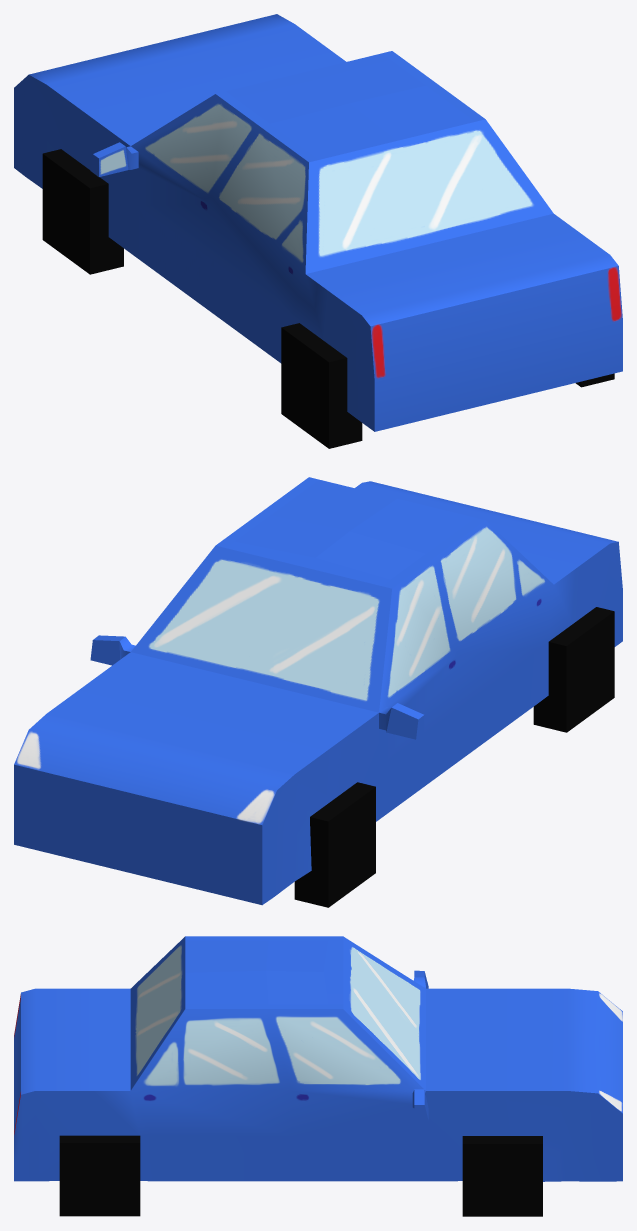
The model's file is sedan(finished).fbx.
The picture shows the model from 3 angles, top to bottom: view 1: azimuth 30°, elevation 25°; view 2: azimuth 150°, elevation 25°; view 3: azimuth 270°, elevation 25°; orthographic projection. The views are drawn at different scales.
Visible parts, largest first — view 1: Taxi; view 2: Taxi; view 3: Taxi.
Part boxes in pixels (x1,y1,x2,y2): Taxi: (14, 14, 622, 448); Taxi: (14, 477, 622, 907); Taxi: (14, 936, 622, 1216).
Size of the model in its own units: 1276 by 829 by 2447.
